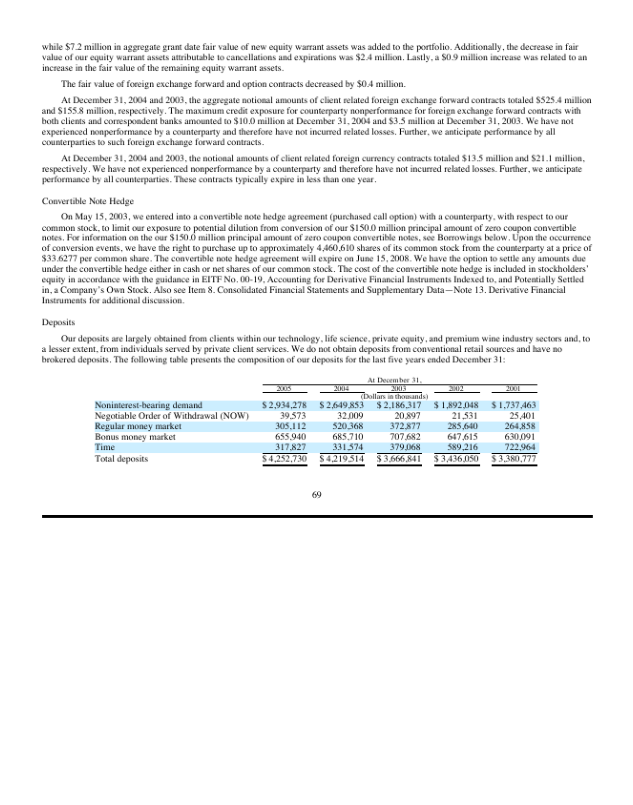table: (259, 374, 539, 472)
